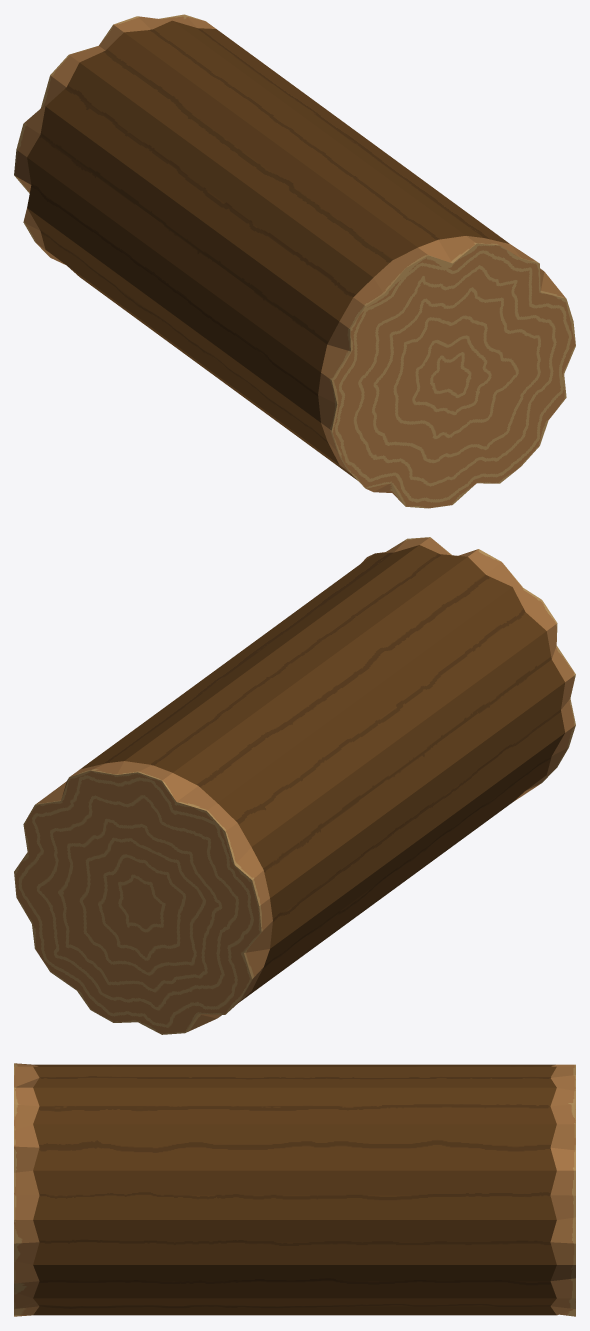
Rendered from Log.glb.
3 views of the same model, one above another, from view 1: azimuth 30°, elevation 25°; view 2: azimuth 150°, elevation 25°; view 3: azimuth 270°, elevation 25° (orthographic). The views are drawn at different scales.
Visible parts, largest first — view 1: Cylinder; view 2: Cylinder; view 3: Cylinder.
Part boxes in pixels (box(x1,y1,x2,y2)): Cylinder: box(14, 14, 575, 508); Cylinder: box(14, 537, 575, 1034); Cylinder: box(14, 1063, 575, 1316).
Size of the model in its own units: 2.33 by 2.33 by 5.15.
Materials: 1 (1 with a texture image).
